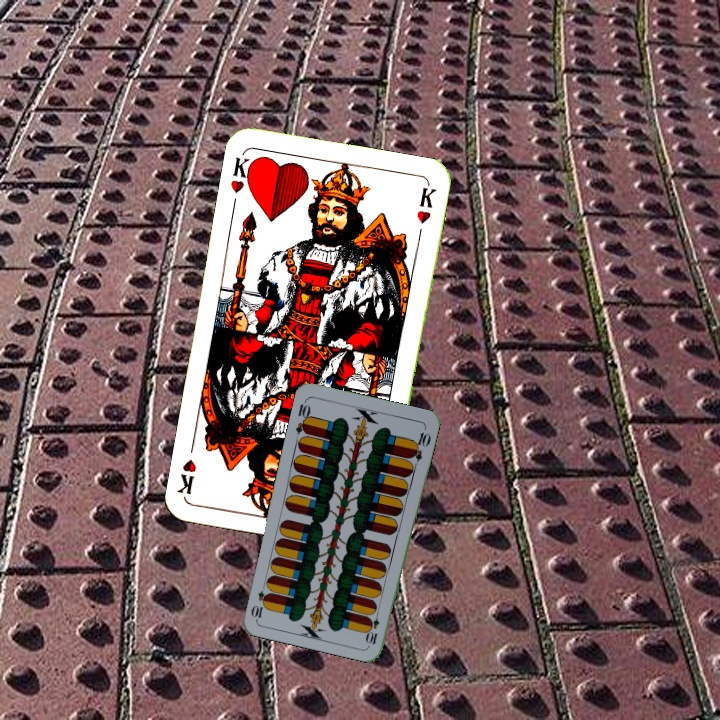E10: (292, 396, 313, 436), (364, 606, 382, 647)
HK: (226, 150, 258, 195)
